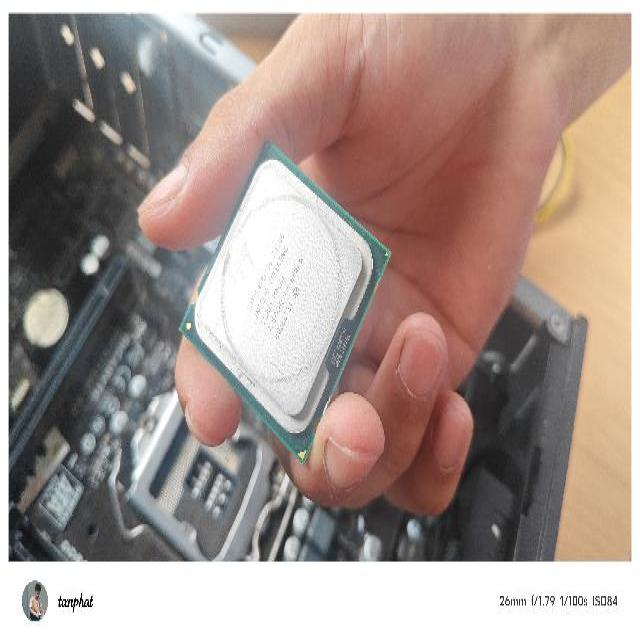CPU: (178, 138, 394, 466)
